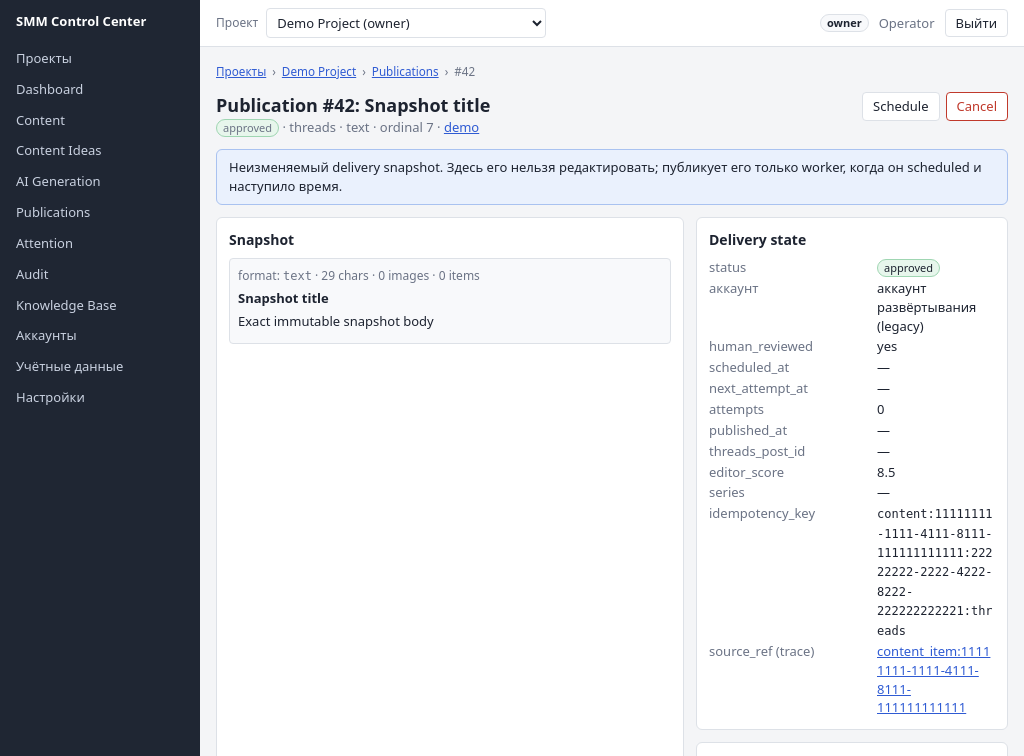
Scenario: editable deployment (control) › a MUTATIONS_DISABLED refusal is explained, not shown as a role problem
Click the button "Cancel". click: (977, 106)
box: 946,92 -> 1008,121
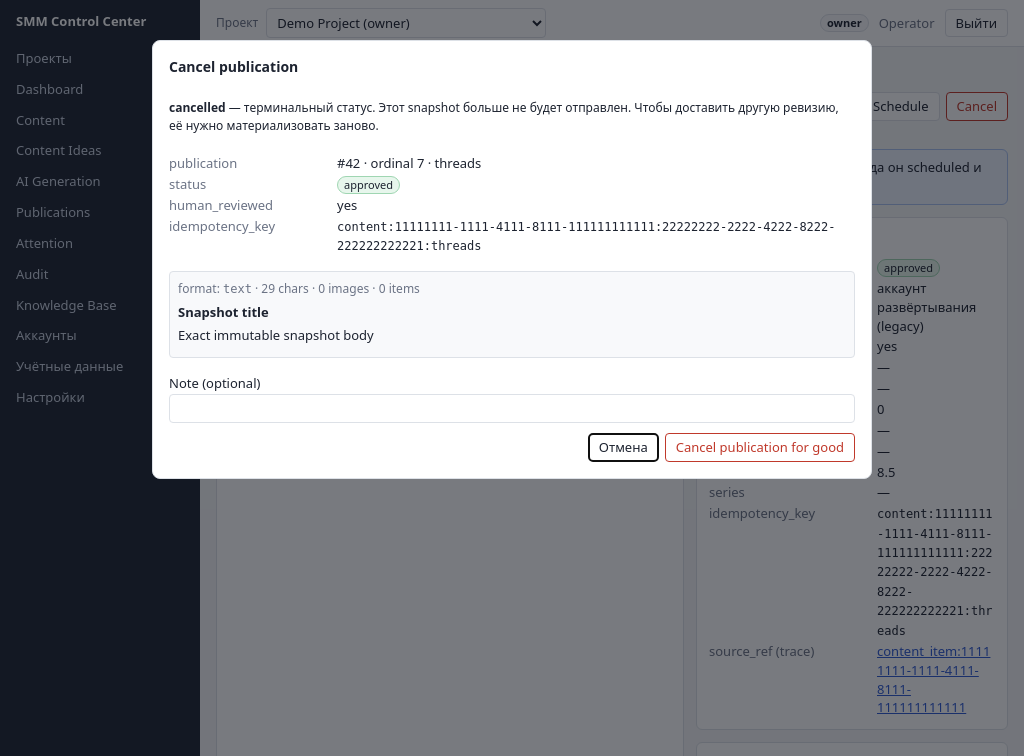
Check: the text "Exact immutable snapshot body" is shown, box 178,326 -> 374,344
Click the button "Cancel publication for good". click: (760, 448)
box: 665,433 -> 855,462
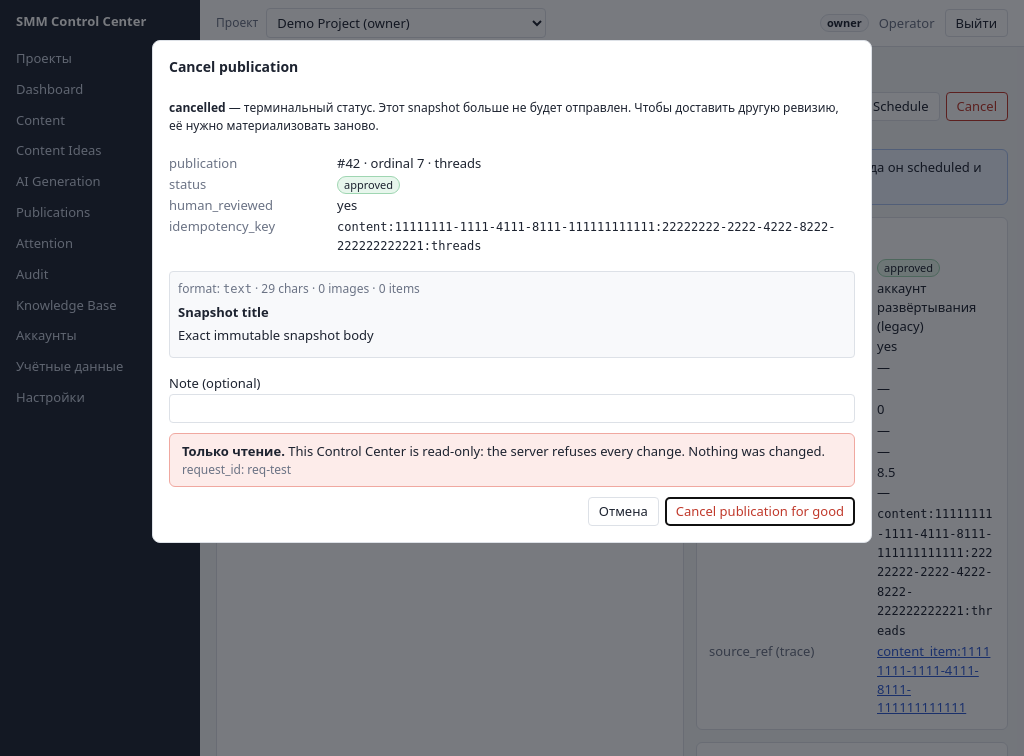
Check: the text "Только чтение." is shown, box 182,442 -> 285,460
